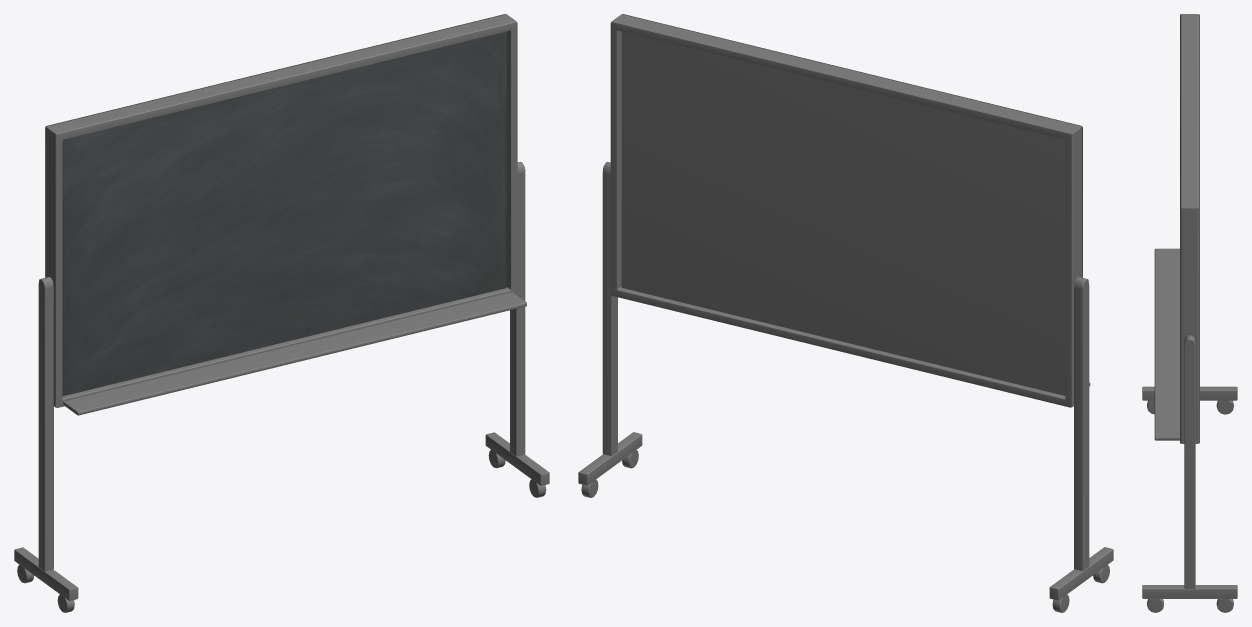
Rendered from SM_whiteboard.fbx.
3 views of the same model, side by side, from view 1: azimuth 30°, elevation 25°; view 2: azimuth 150°, elevation 25°; view 3: azimuth 270°, elevation 25° (orthographic). The views are drawn at different scales.
Parts seen in each view (by area): view 1: board; view 2: board; view 3: board.
Boxes of the visible parts, bbox=[...] form: board: bbox=[14, 14, 549, 612]; board: bbox=[578, 14, 1113, 612]; board: bbox=[1142, 14, 1237, 612].
Bounding box in the file's own units: 81.81 × 75.68 × 16.27.
2 materials, 1 textured.
